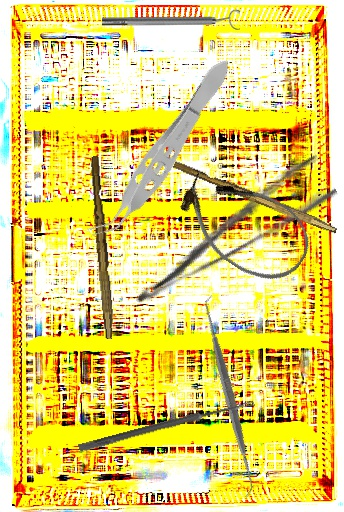Cannula: (166, 156, 323, 296)
Dressing Forceps: (115, 152, 341, 309)
Fixation Ring: (102, 9, 240, 32)
Scalpel Handle: (171, 160, 340, 234), (86, 155, 119, 340)
Spatula Surgical: (126, 294, 332, 499)
Surgical Spoon: (77, 397, 256, 454)
Tissue Forceps: (84, 49, 242, 254)
